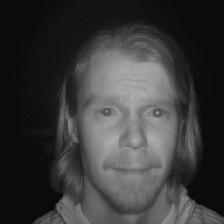sad: (53, 26, 202, 217)
